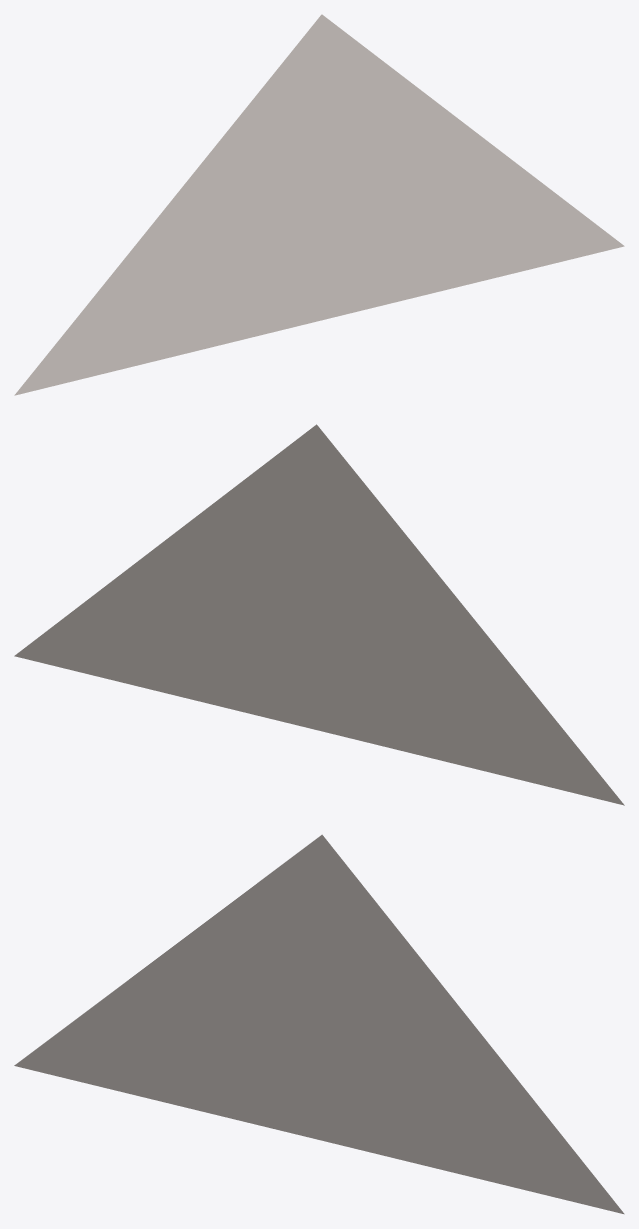
The model's file is SM_L_R_Home_Side_roof.fbx.
3 views of the same model, one above another, from view 1: azimuth 30°, elevation 25°; view 2: azimuth 150°, elevation 25°; view 3: azimuth 330°, elevation 25° (orthographic).
Visible parts, largest first — view 1: SM_L_R_Home_Side_roof; view 2: SM_L_R_Home_Side_roof; view 3: SM_L_R_Home_Side_roof.
Boxes of the visible parts, <box> form: SM_L_R_Home_Side_roof: <box>14,14,624,395</box>; SM_L_R_Home_Side_roof: <box>14,424,624,805</box>; SM_L_R_Home_Side_roof: <box>14,834,624,1214</box>.
Size of the model in its own units: 2.87 by 1.38 by 0.0019.
